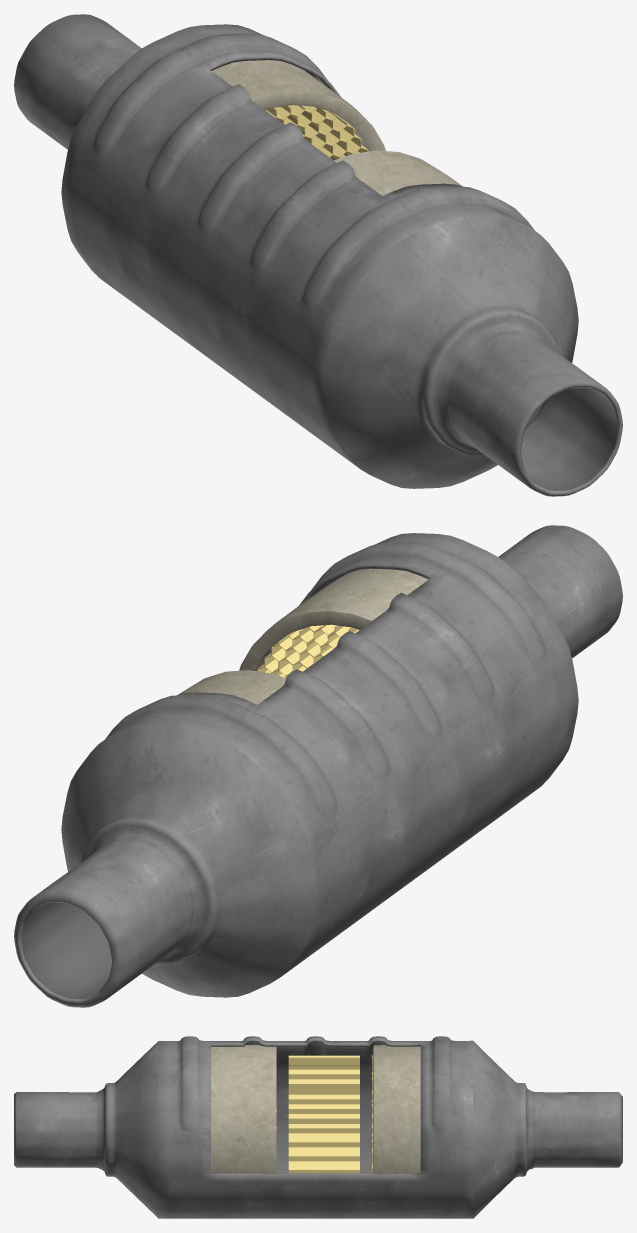
File: catalytic-converter.glb
3 views of the same model, one above another, from view 1: azimuth 30°, elevation 25°; view 2: azimuth 150°, elevation 25°; view 3: azimuth 270°, elevation 25° (orthographic). The views are drawn at different scales.
Visible parts, largest first — view 1: honeycomb.000, honeycomb.001, honeycomb.003; view 2: honeycomb.000, honeycomb.001, honeycomb.003; view 3: honeycomb.000, honeycomb.001, honeycomb.003.
Part boxes in pixels (x1,y1,x2,y2): honeycomb.000: [14, 14, 622, 496]; honeycomb.001: [212, 60, 462, 195]; honeycomb.003: [265, 105, 368, 160]; honeycomb.000: [14, 525, 622, 1007]; honeycomb.001: [177, 568, 427, 704]; honeycomb.003: [257, 624, 359, 678]; honeycomb.000: [14, 1036, 622, 1218]; honeycomb.001: [211, 1045, 420, 1173]; honeycomb.003: [276, 1055, 372, 1173].
Size of the model in its own units: 0.5849 by 0.6016 by 2.
Materials: 3 (3 with a texture image).
